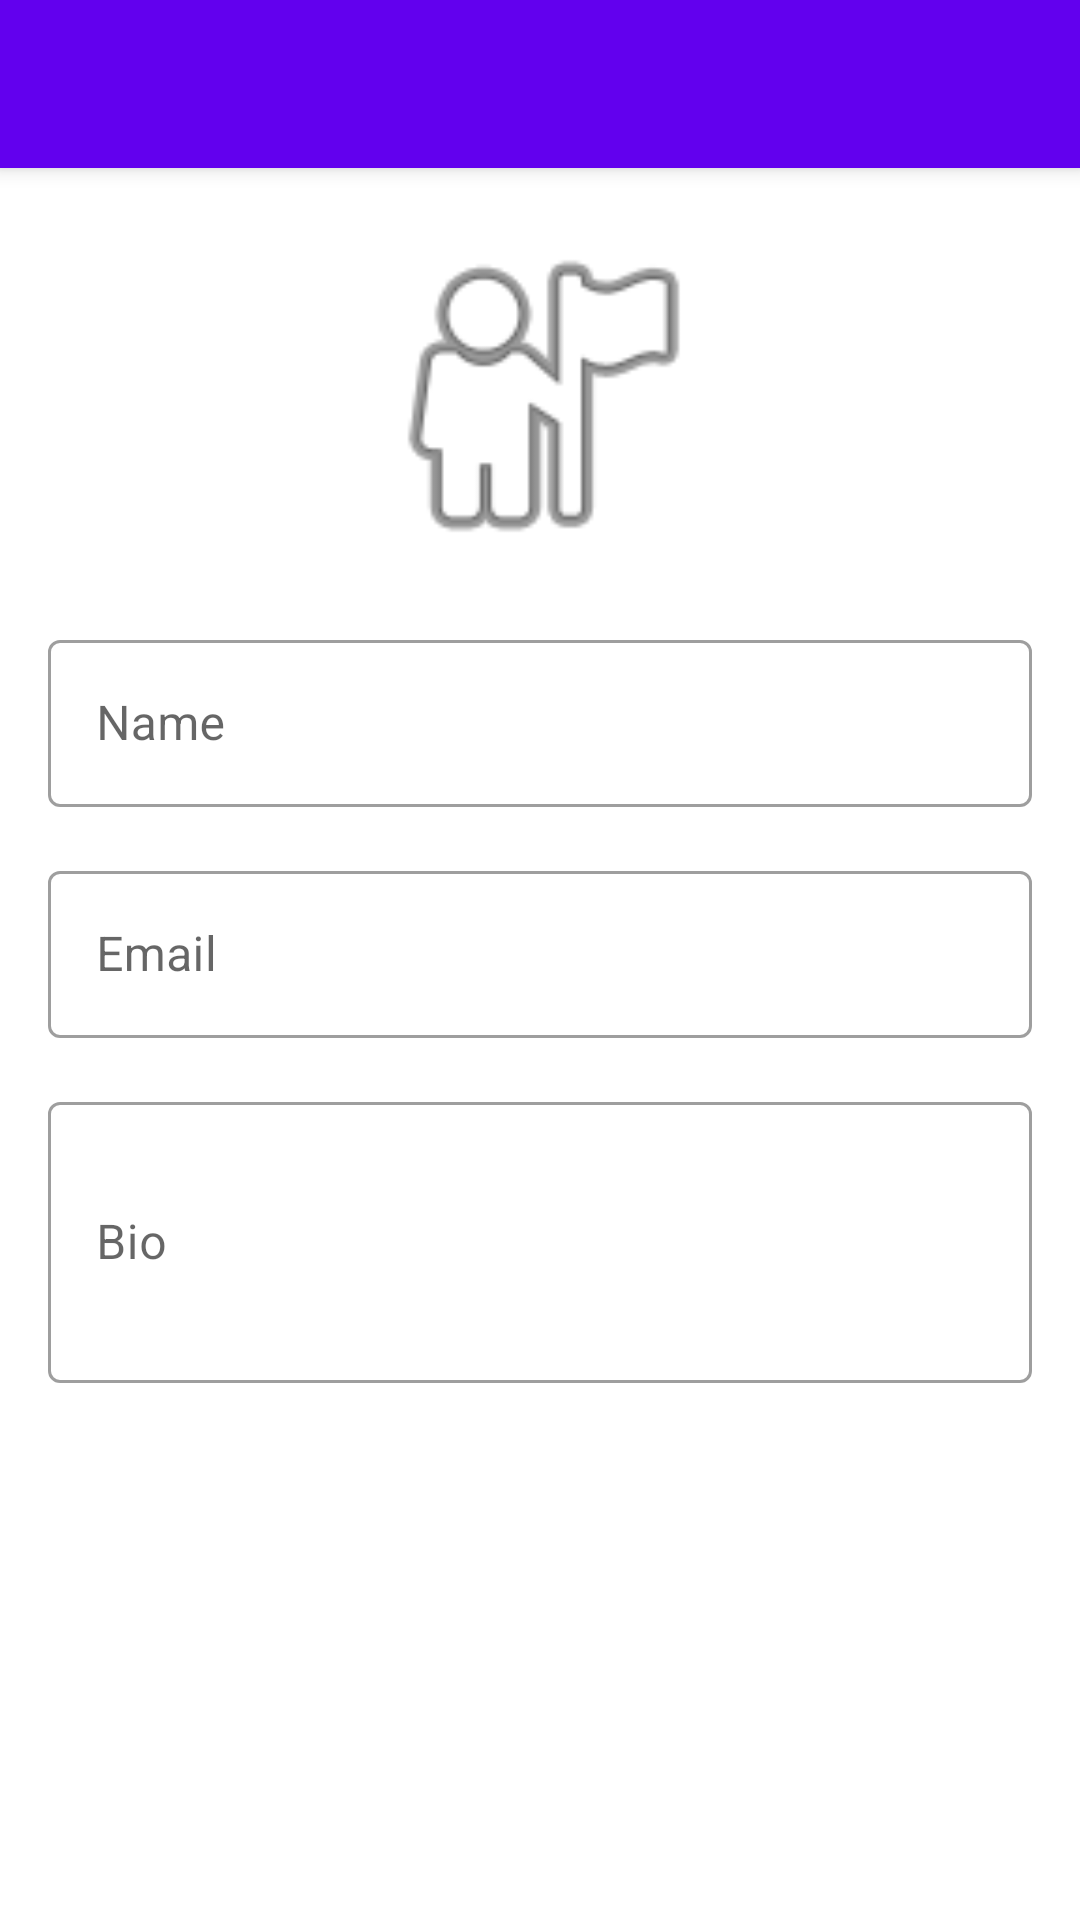

Icons on this 1080*1920 Android screen, each with the point to tap as (x,y):
Profile picture: (543,396)
